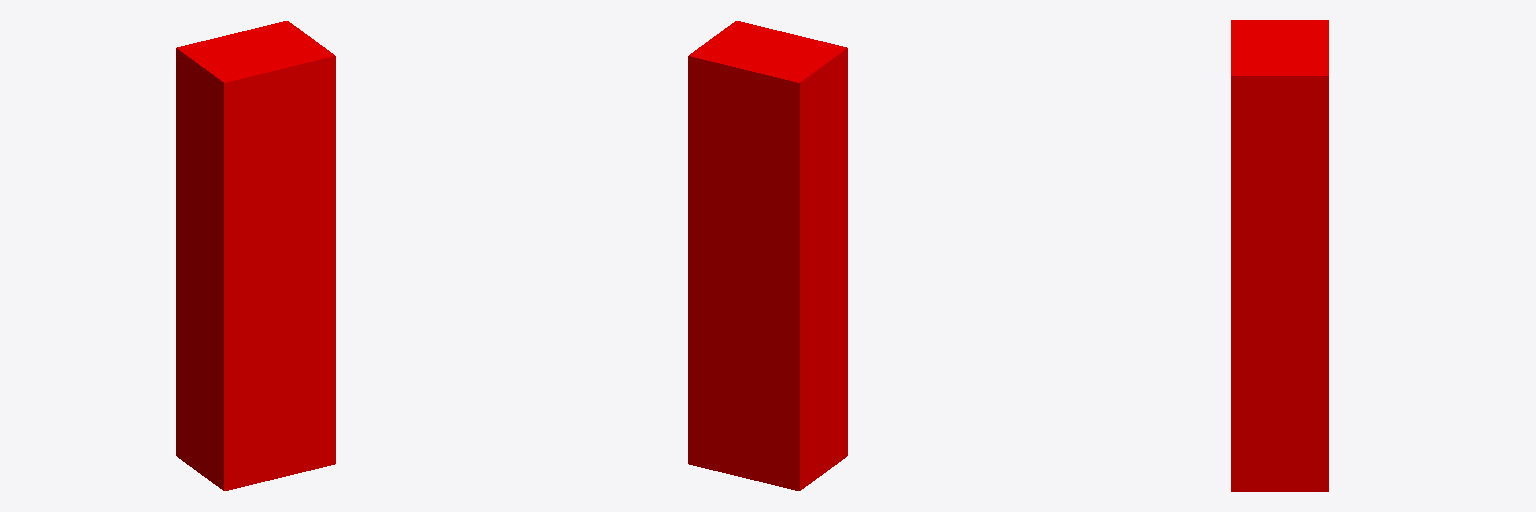
URDF robot description (stick):
<?xml version="1.0" ?>
<robot name="stick">
  <link name="baseLink">
    <contact>
      <lateral_friction value="1.0"/>
      <rolling_friction value="1.0"/>
      <spinning_friction value="1.0"/>
      <!--contact_cfm value="0.0"/-->
      <!--contact_erp value="1.0"/-->
    </contact>
    <inertial>
      <origin rpy="0 0 0" xyz="0 0 0"/>
       <mass value="1.0"/>
       <inertia ixx="1" ixy="0" ixz="0" iyy="1" iyz="0" izz="1"/>
    </inertial>
    <visual>
      <origin rpy="0 0 0" xyz="0 0 0"/>
      <geometry>
				<box size="0.02 0.015 0.07"/>
      </geometry>
       <material name="red">
        <color rgba="1 0 0 1"/>
      </material>
    </visual>
    <collision>
      <origin rpy="0 0 0" xyz="0 0 0"/>
      <geometry>
	 	  <box size="0.02 0.015 0.07"/>
      </geometry>
    </collision>
  </link>
</robot>

--- Render facts (derived) ---
3 views of the same robot in one strip: view 1: azimuth 30°, elevation 25°; view 2: azimuth 150°, elevation 25°; view 3: azimuth 270°, elevation 25° (orthographic).
Robot: stick — 1 links, 0 joints (none); root link baseLink; default pose: every joint at zero.
Visible links, largest first — view 1: baseLink; view 2: baseLink; view 3: baseLink.
Boxes of the visible links, x1,y1,x2,y2 form: baseLink: (176, 21, 335, 490); baseLink: (688, 21, 847, 490); baseLink: (1231, 20, 1328, 491).
Size in the robot's own frame: 0.02 by 0.015 by 0.07 metres.
Geometry: primitives only (box / cylinder / sphere), no mesh files.
